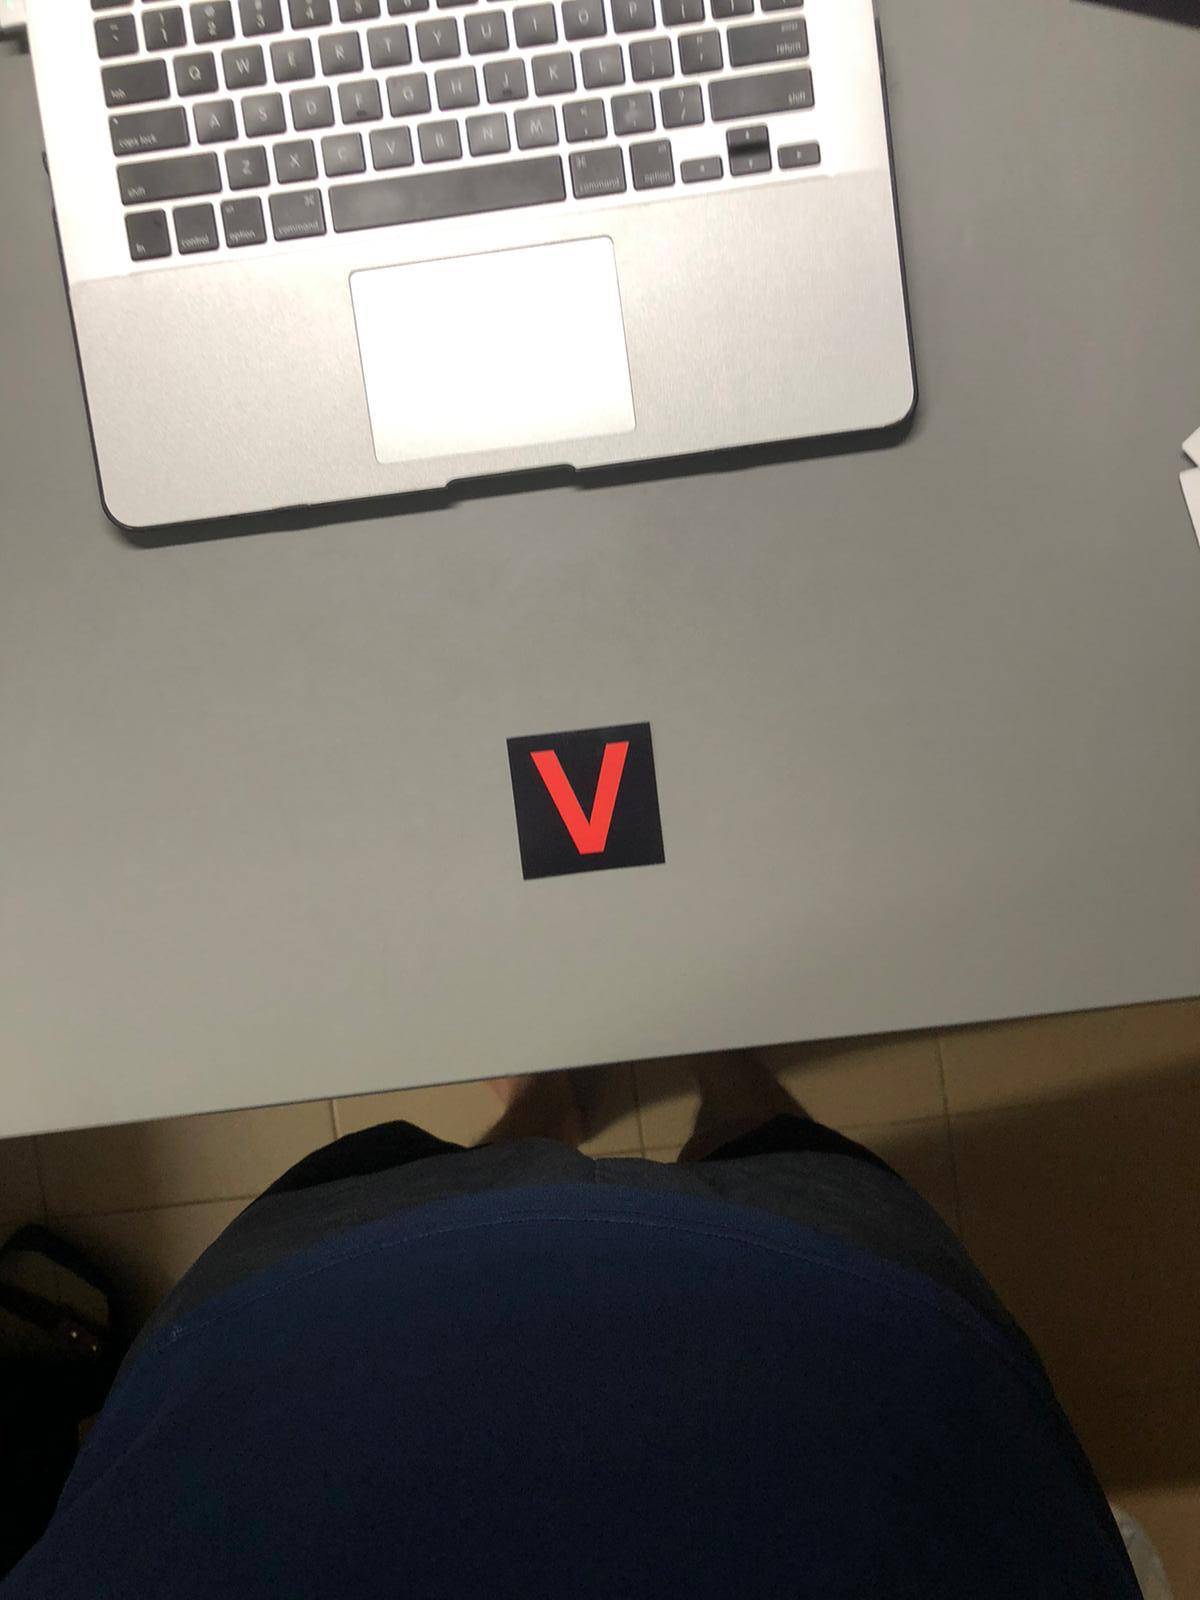V: (518, 726, 659, 871)
